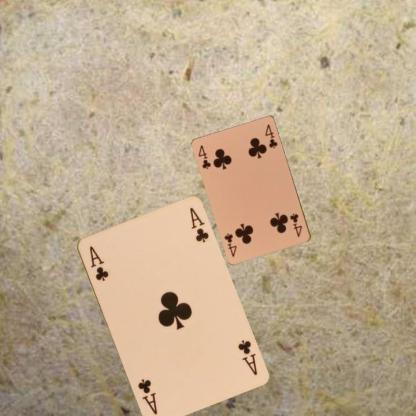4c: (287, 210, 303, 239), (196, 143, 212, 170)
Ac: (86, 243, 110, 283), (235, 337, 258, 377)
